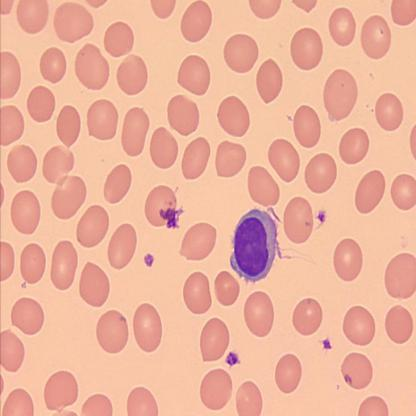Atypical lymphocyte: (229, 204, 282, 284)
